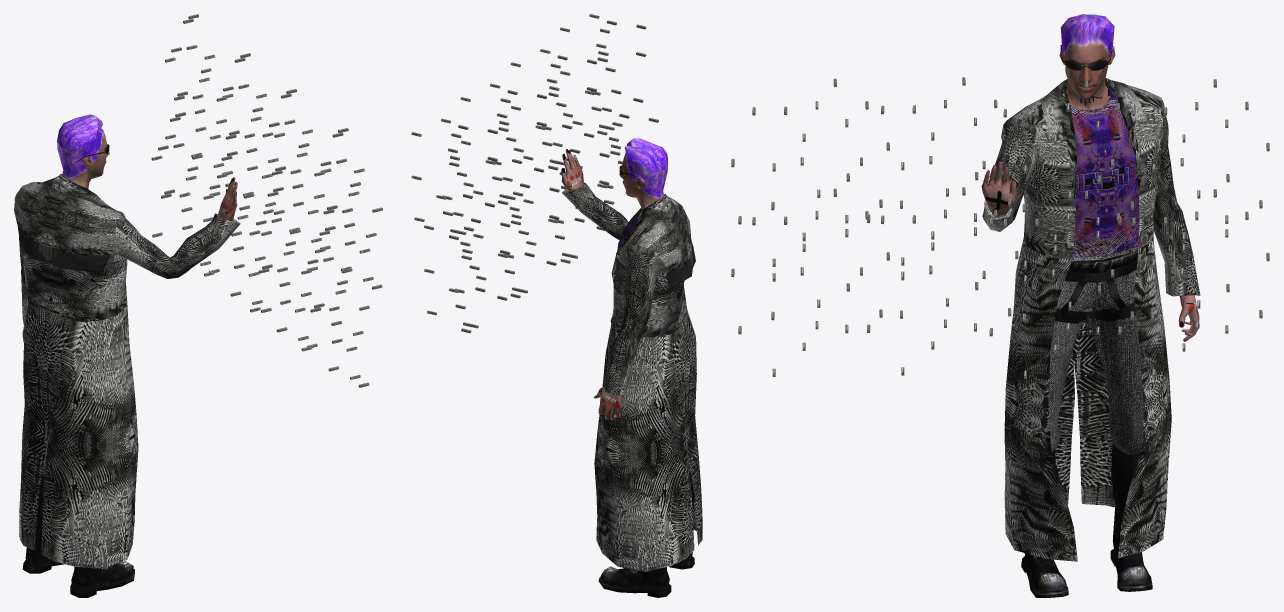
Rendered from neo-dt-opt-v8.glb.
3 views of the same model, side by side, from view 1: azimuth 30°, elevation 25°; view 2: azimuth 150°, elevation 25°; view 3: azimuth 270°, elevation 25° (orthographic). The views are drawn at different scales.
Visible parts, largest first — view 1: Body.003; view 2: Body.003; view 3: Body.003.
Boxes of the visible parts, bbox=[...] form: Body.003: bbox=[14, 14, 382, 597]; Body.003: bbox=[411, 14, 702, 597]; Body.003: bbox=[731, 14, 1269, 597].
Bounding box in the file's own units: 2.54 × 5 × 4.11.
Materials: 1 (1 with a texture image).
